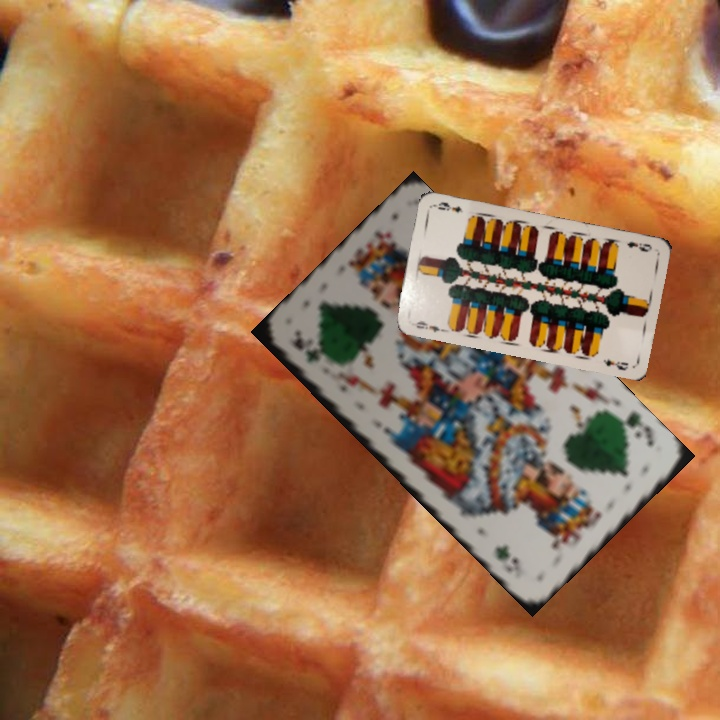E9: (407, 316, 448, 335), (622, 237, 655, 254)
GK: (613, 407, 657, 450), (286, 327, 323, 366)
